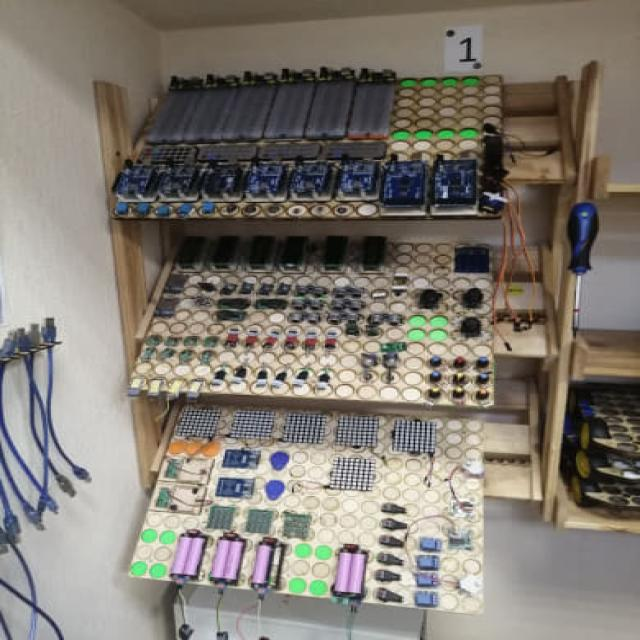Green-circles: (391, 125, 482, 144), (408, 311, 452, 344), (398, 75, 484, 89), (133, 526, 179, 548), (288, 540, 334, 560), (128, 557, 166, 578), (289, 578, 326, 596)
